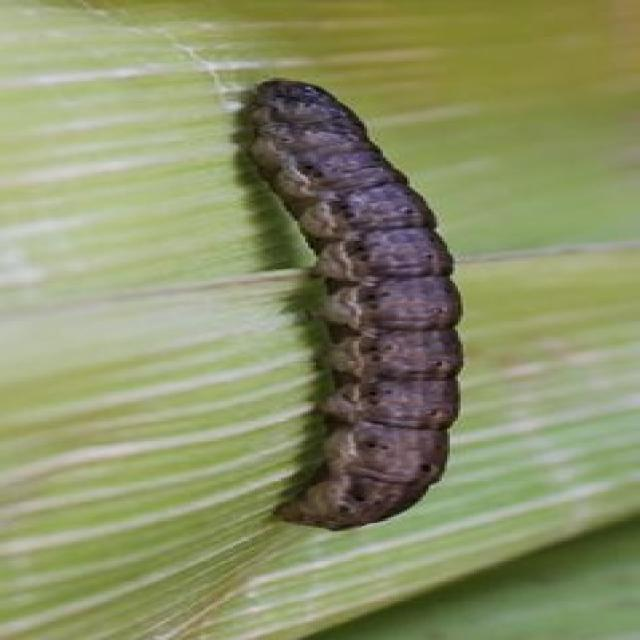black cutworm: (258, 78, 467, 533)
